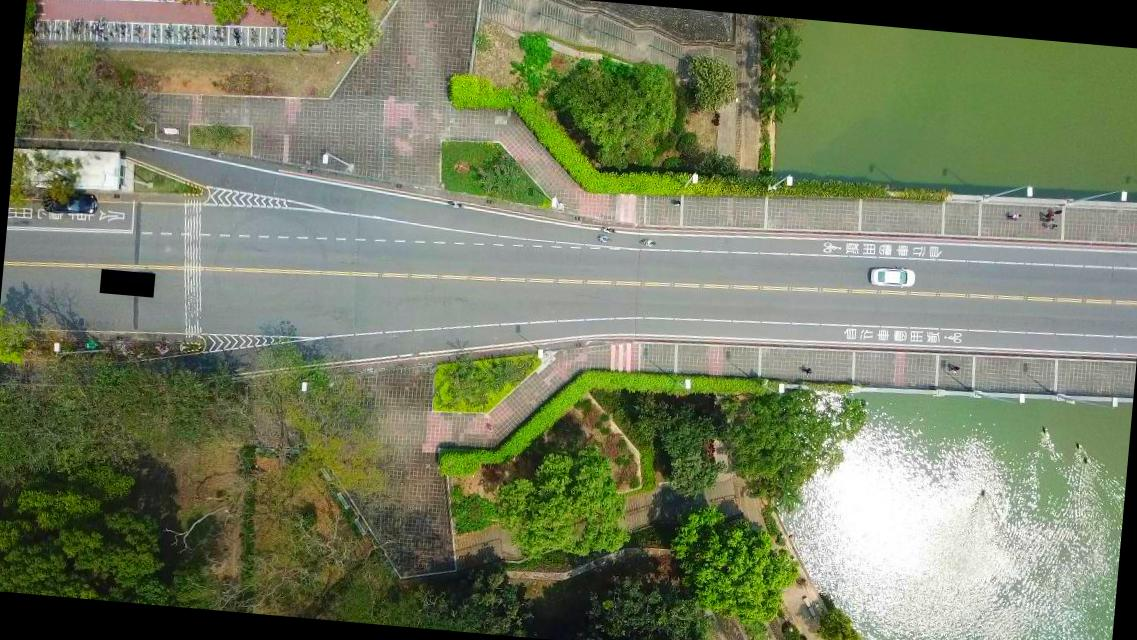vehicle: (40, 188, 96, 218), (867, 265, 915, 290)
